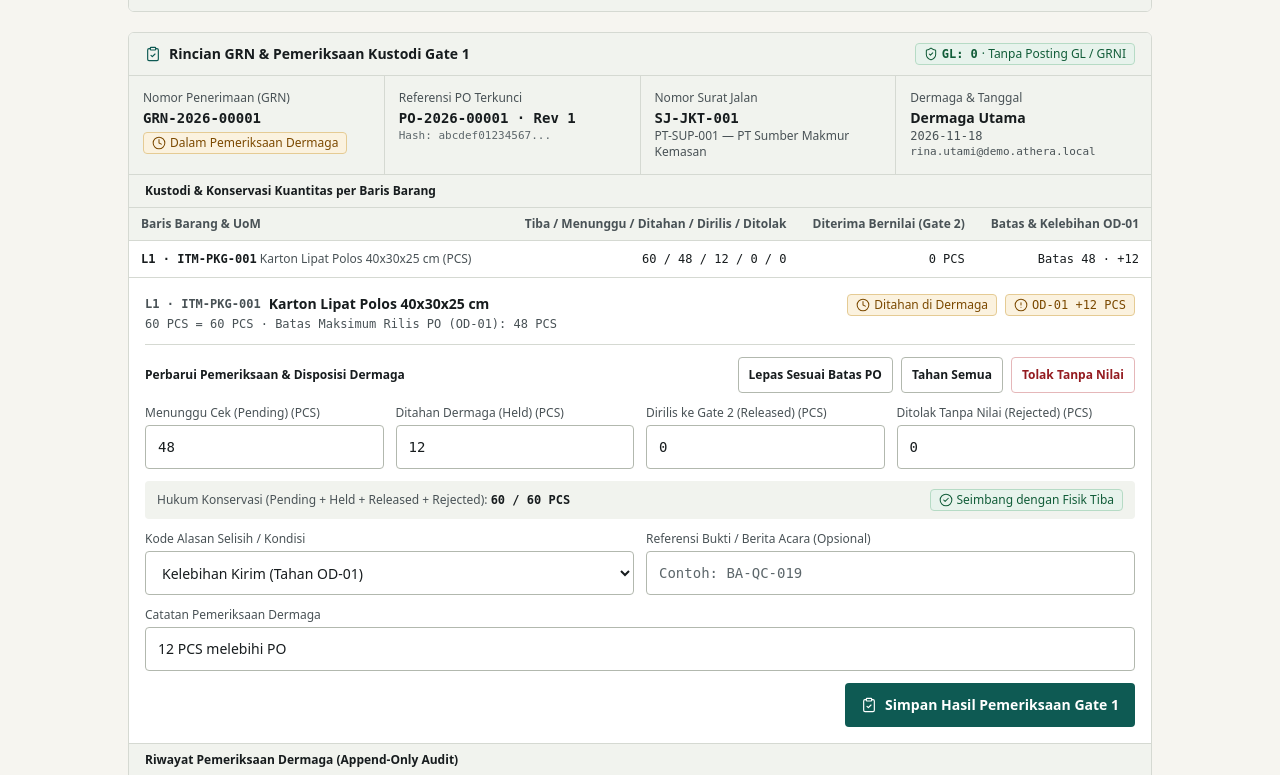
Test: S06 Dock Custody & Receiving Gate 1 Math + UI › enforces Gate 1 zero-GL visibility, preset split within OD-01 cap, and live arrival excess warning
(page scrolled)
expect the element with test id "dock-check-card-0" shows "OD-01 +12 PCS": met, box x1=129 y1=278 x2=1151 y2=743
Click the button "Lepas Sesuai Batas PO" at (815, 375), box x1=738 y1=357 x2=893 y2=393
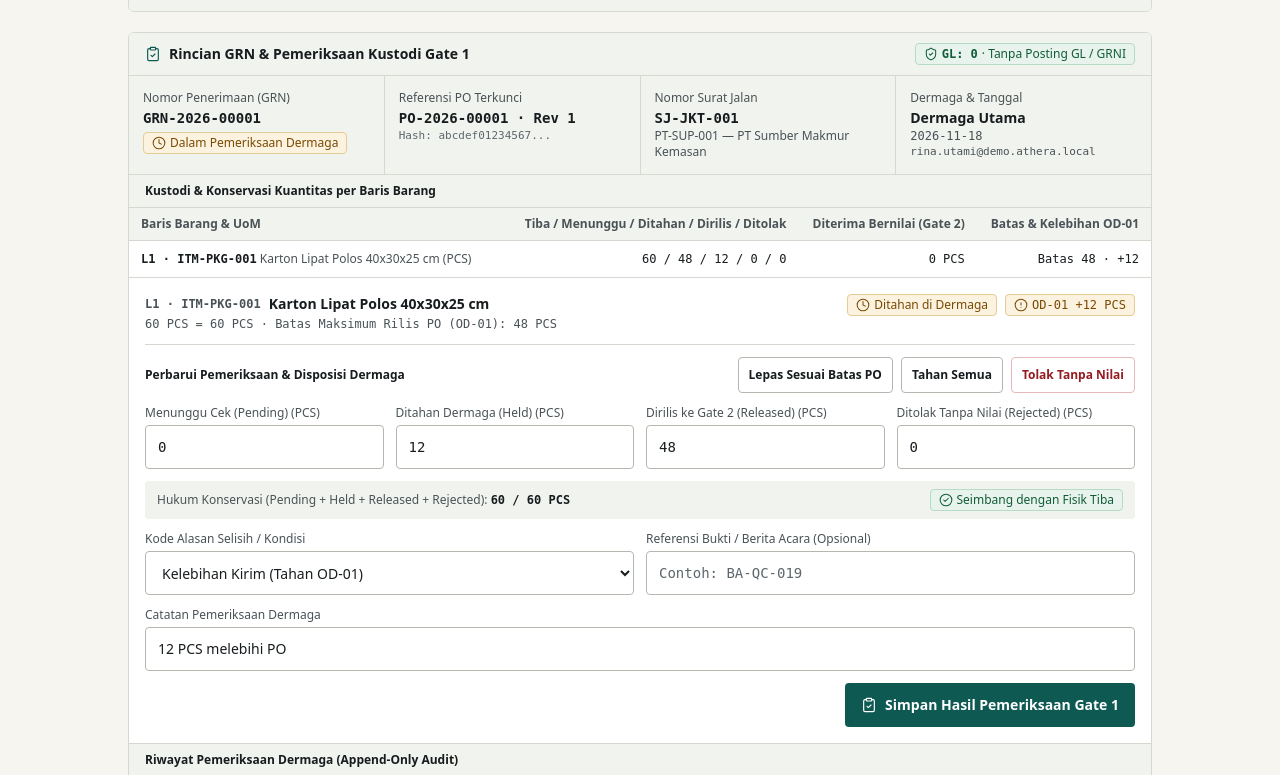
expect the element with test id "dock-conservation-0" shows "Seimbang dengan Fisik Tiba": met, box x1=956 y1=491 x2=1114 y2=508
Replace the text in the field with id "dock-released-0" with "55" at (765, 447), box x1=646 y1=425 x2=884 y2=469
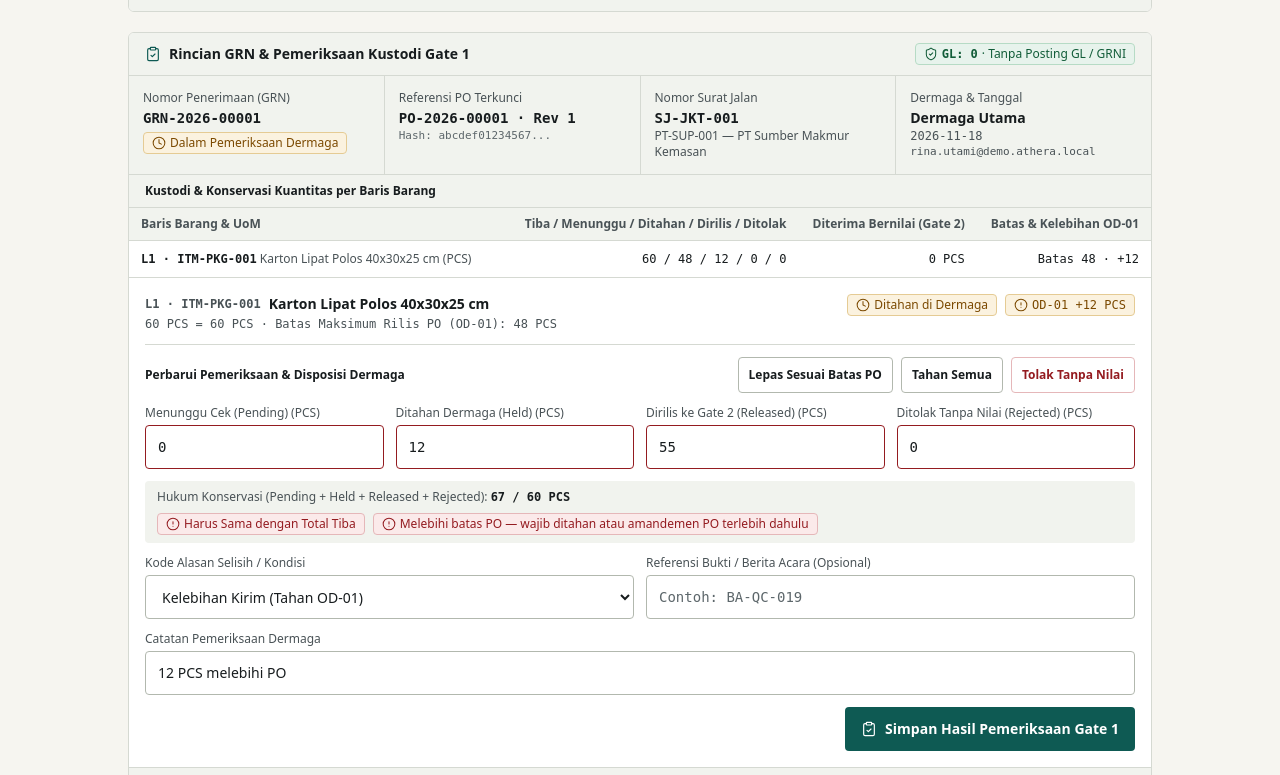
Replace the text in the field with id "dock-held-0" with "5" at (515, 447), box x1=396 y1=425 x2=634 y2=469
(page scrolled)
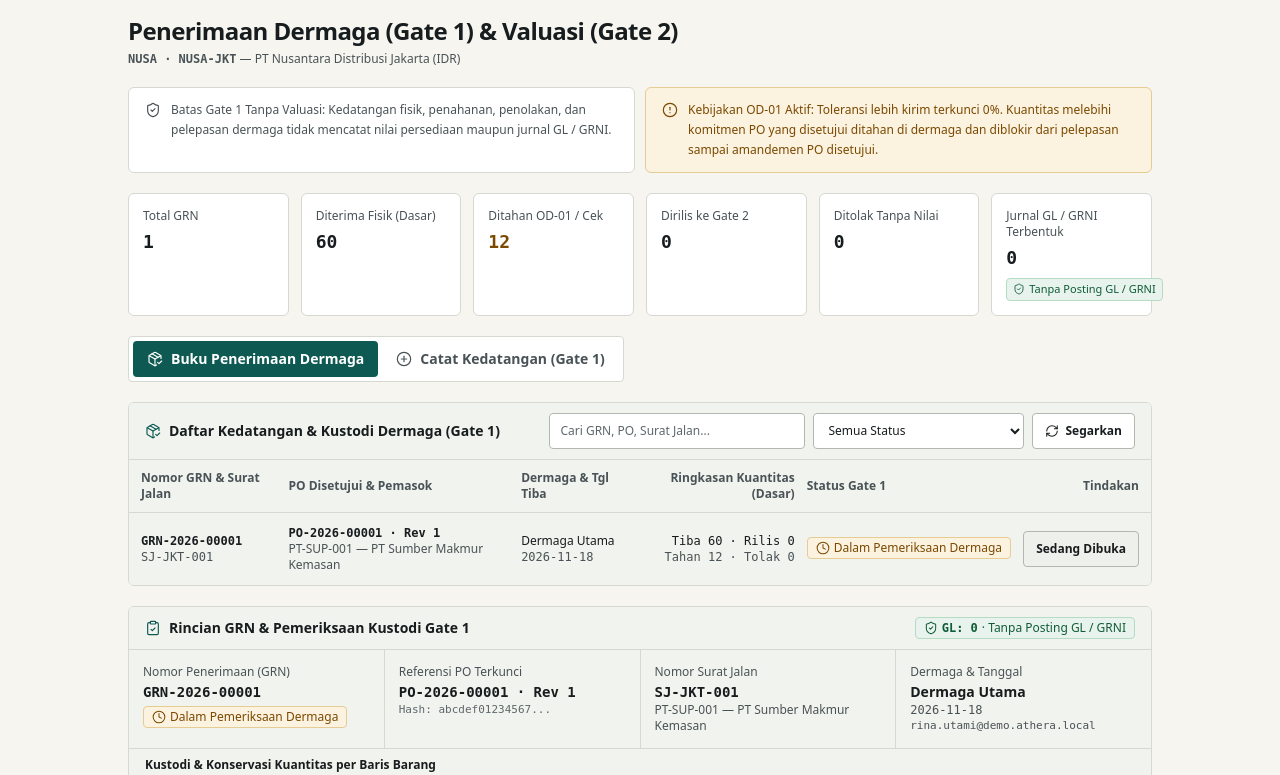
Click the tab "Catat Kedatangan (Gate 1)" at (501, 358), box x1=382 y1=340 x2=619 y2=376
(page scrolled)
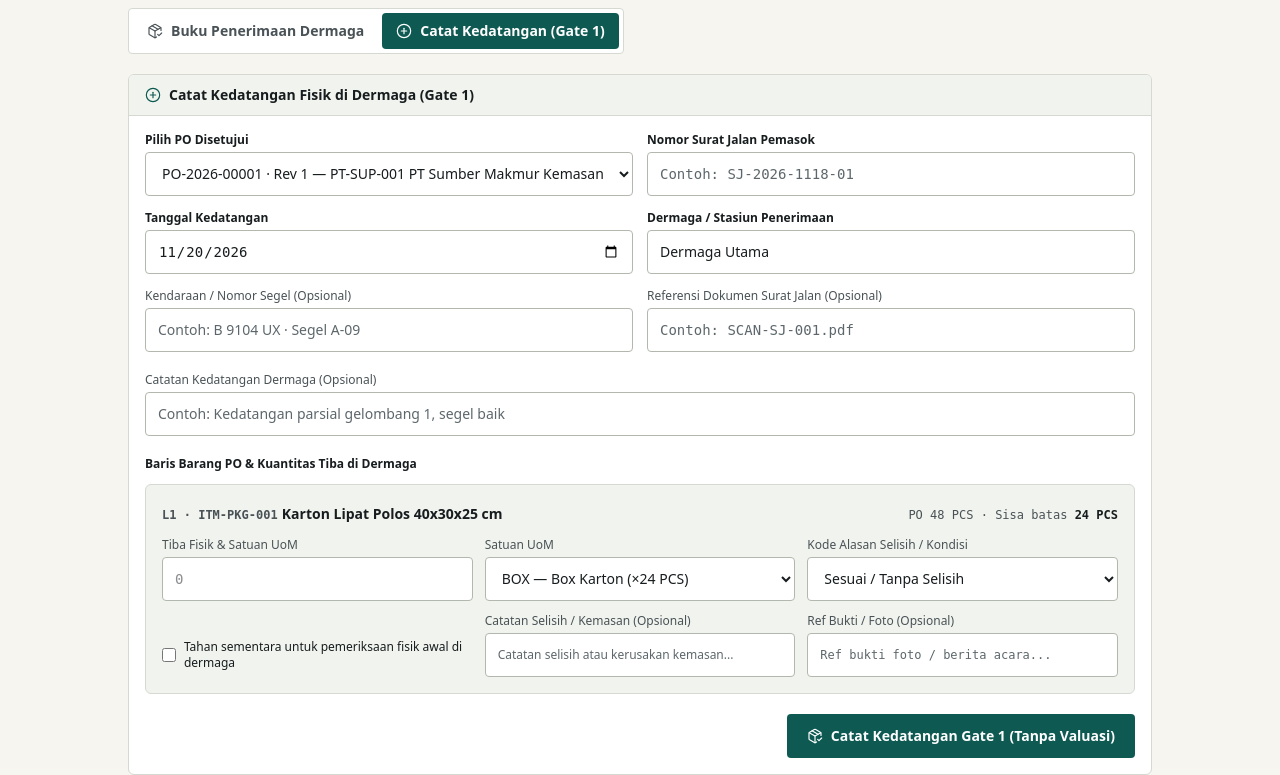
Type "2" into the field labelled "Tiba Fisik & Satuan UoM" at (317, 578), box x1=162 y1=556 x2=473 y2=600
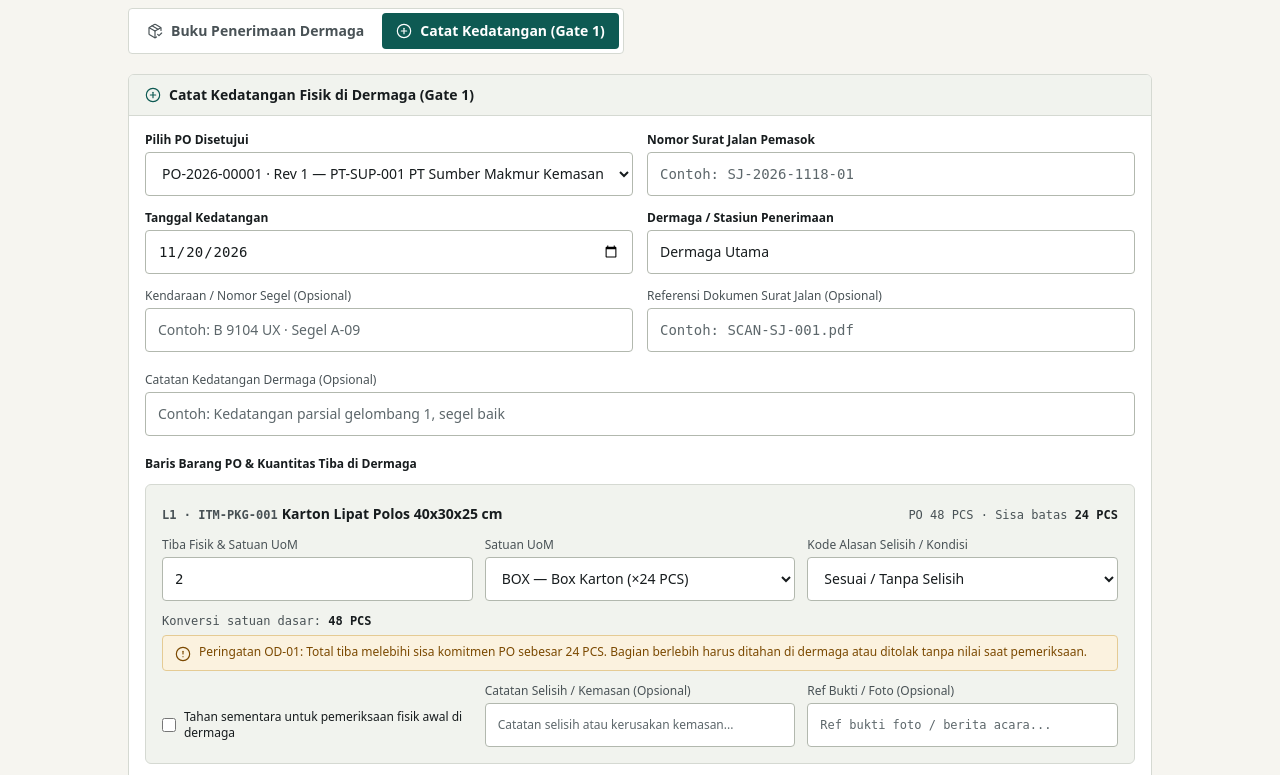
expect the element with test id "arrival-od01-warning-0" shows "24 PCS": met, box x1=199 y1=642 x2=1087 y2=660
